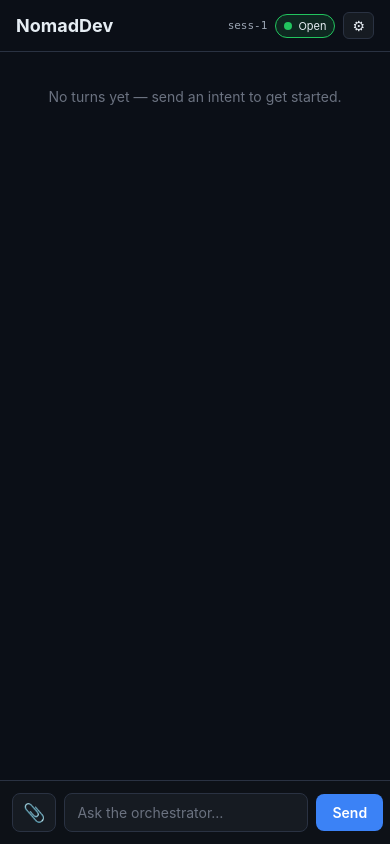
it: Composer submit sends a user.intent envelope and records it
The width and height of the screenshot is (390, 844).
Note: The Composer exposes its TextInput + submit button by label.
Type "try this" into the field named "composer" at (186, 812), box [64,793,308,832]
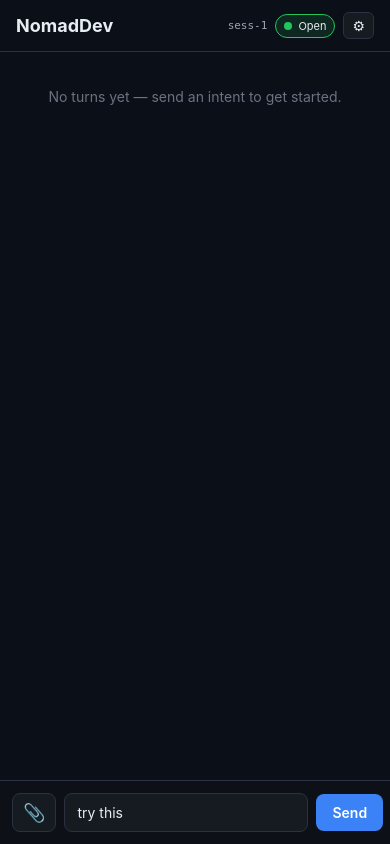
Click the button with aria-label "send-button" at (350, 812), box [316,794,383,831]
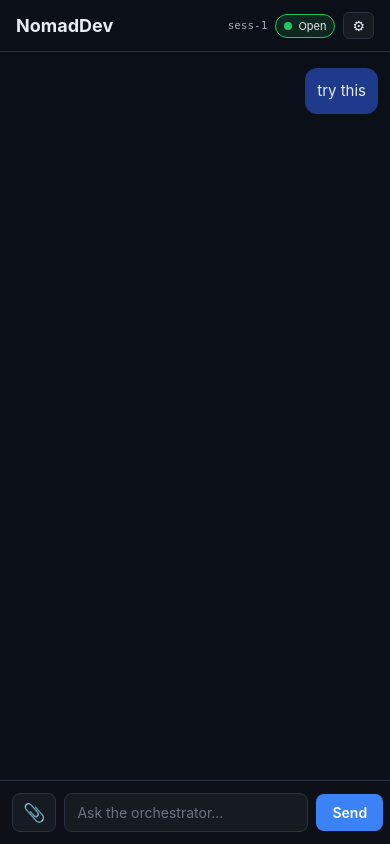
Now the text "try this" is shown, box [317,80,366,102]
